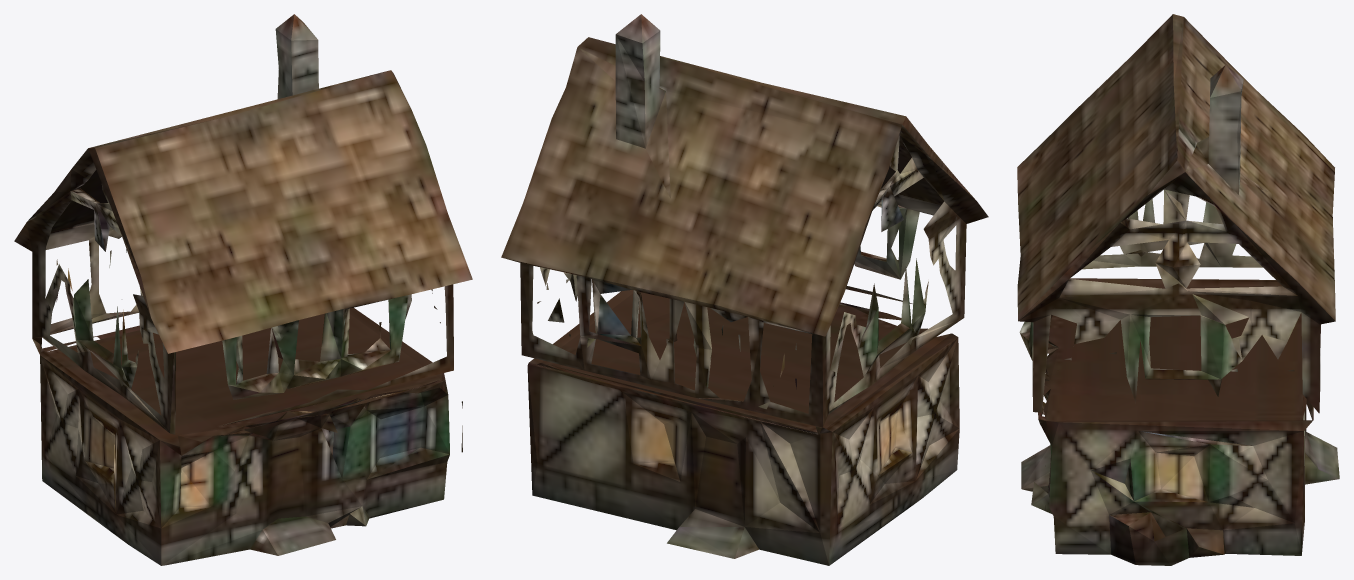
File: village_house_b_lod2.glb
3 renders of one model, left to right at view 1: azimuth 30°, elevation 25°; view 2: azimuth 150°, elevation 25°; view 3: azimuth 270°, elevation 25°, orthographic. The views are drawn at different scales.
Visible parts, largest first — view 1: lod; view 2: lod; view 3: lod.
Boxes of the visible parts, x1,y1,x2,y2 form: lod: (14, 14, 472, 565); lod: (501, 14, 988, 565); lod: (1017, 14, 1339, 565).
Bounding box in the file's own units: 7.85 × 10.39 × 6.62.
1 material, 1 textured.
